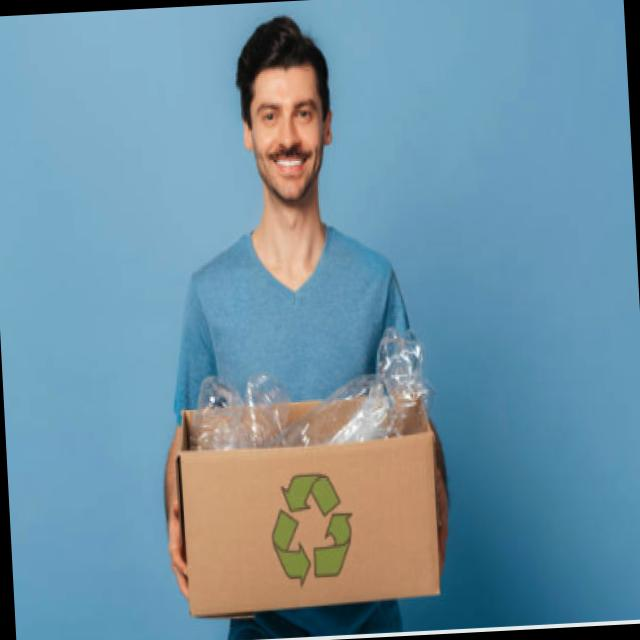Kardus: (174, 388, 448, 621)
